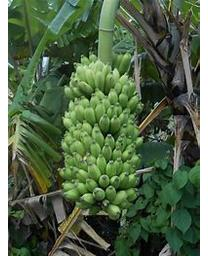banana: (62, 54, 146, 220)
